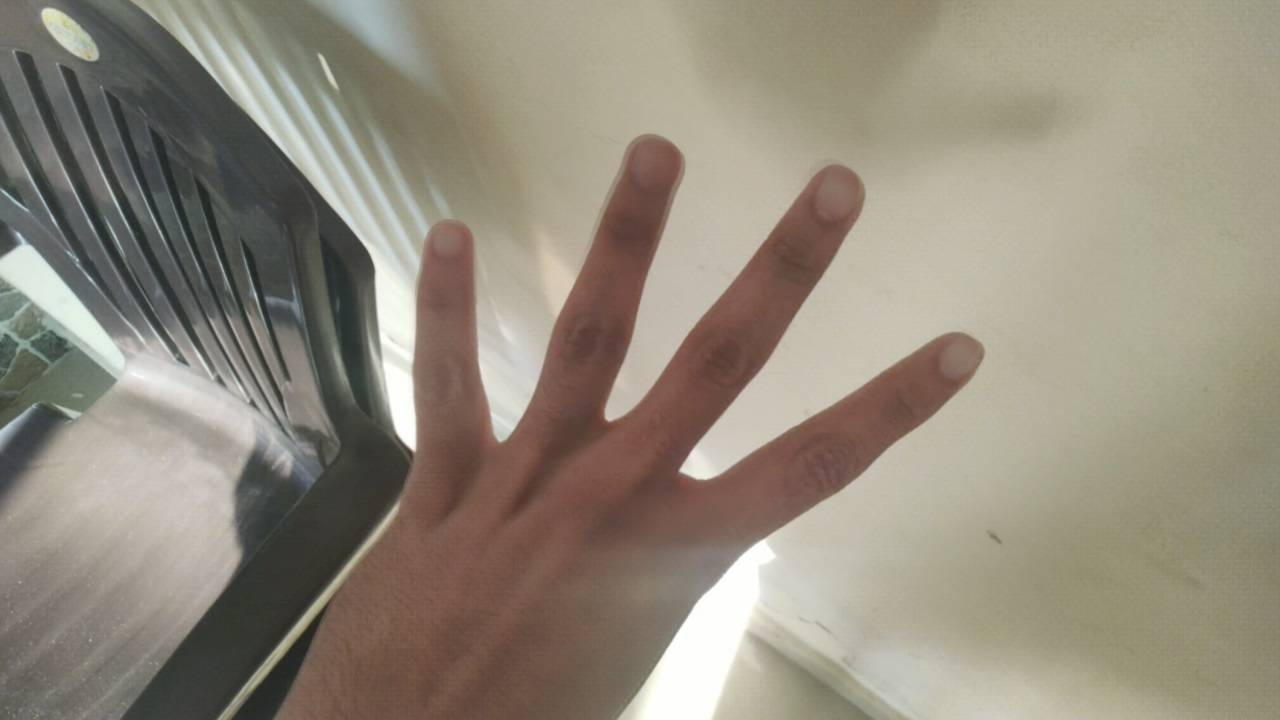fingertip: (914, 320, 991, 389), (614, 136, 690, 194), (802, 160, 874, 220), (412, 214, 476, 272)
